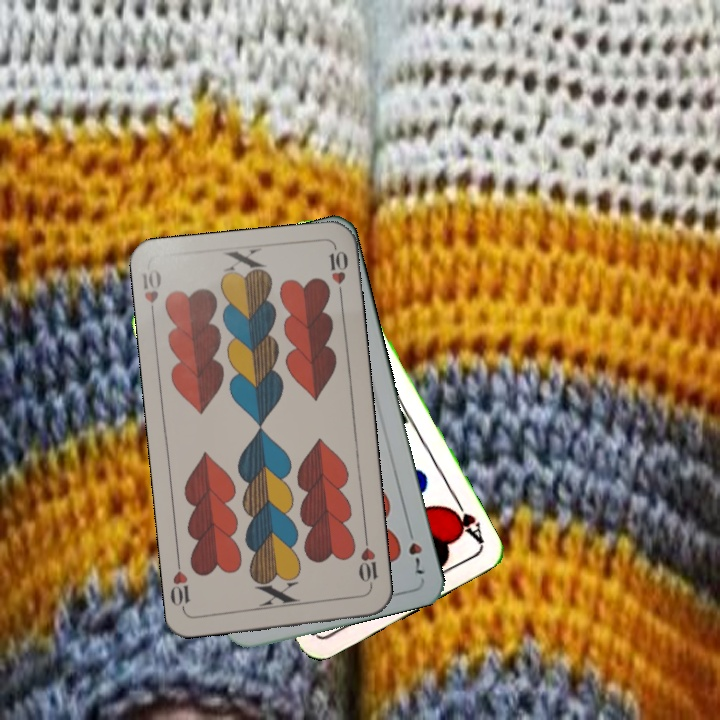H10: (354, 534, 380, 593), (138, 265, 164, 323)
H7: (403, 521, 427, 577)
HA: (443, 493, 487, 548)
